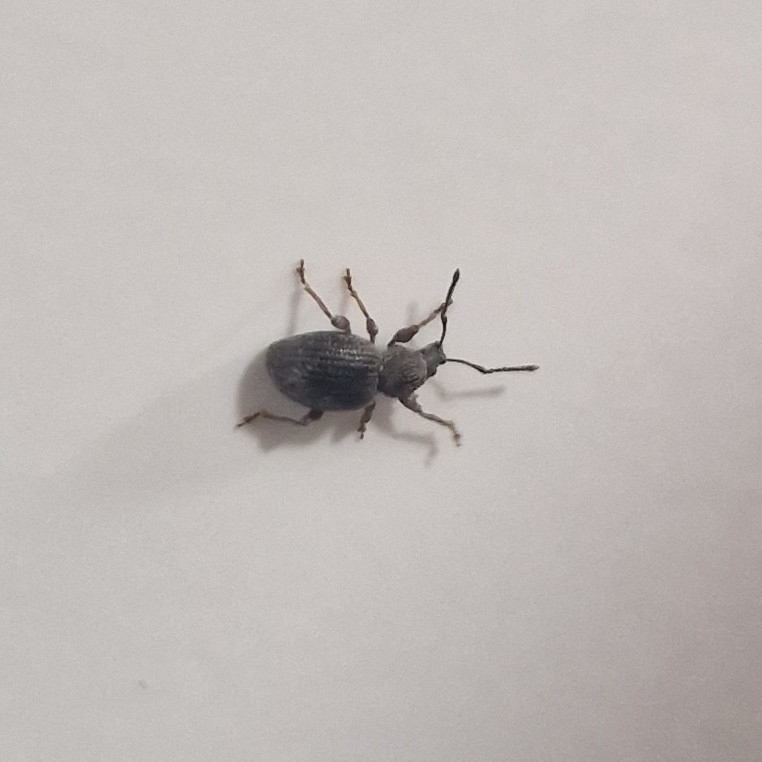weevils: (160, 196, 601, 523)
